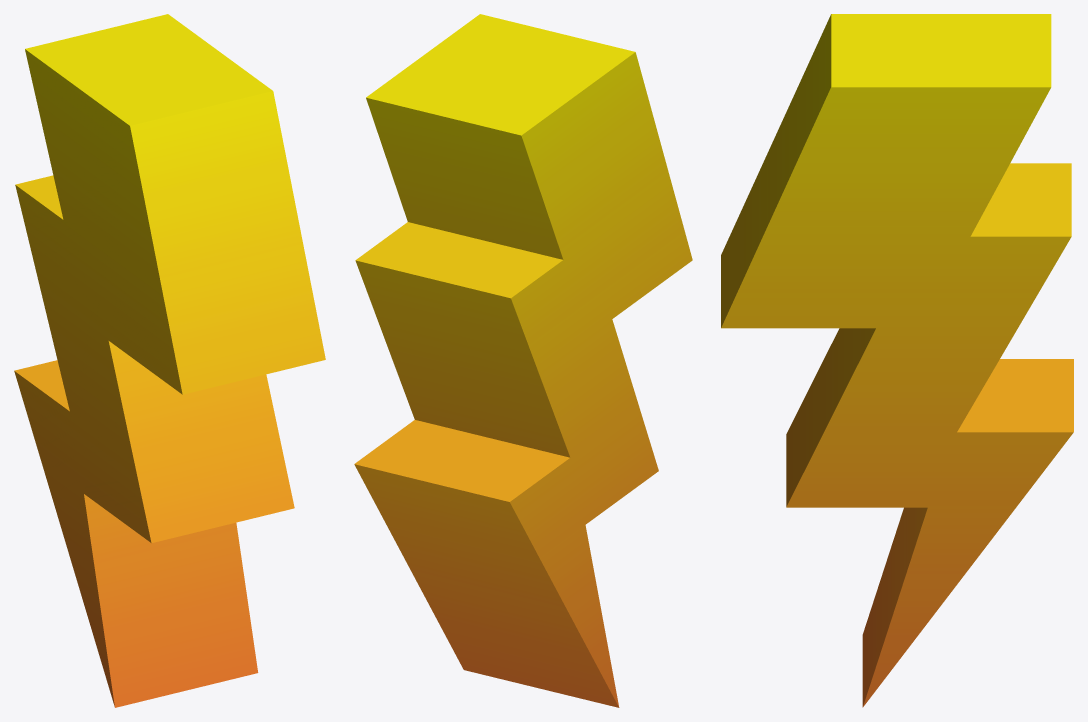
File: ItemThunder.fbx
3 views of the same model, side by side, from view 1: azimuth 30°, elevation 25°; view 2: azimuth 150°, elevation 25°; view 3: azimuth 270°, elevation 25° (orthographic). The views are drawn at different scales.
Visible parts, largest first — view 1: Cube; view 2: Cube; view 3: Cube.
Boxes of the visible parts, box(x1,y1,x2,y2) form: Cube: box(14, 14, 325, 707); Cube: box(354, 14, 692, 707); Cube: box(721, 14, 1073, 707).
Size of the model in its own units: 50.55 by 200 by 103.
